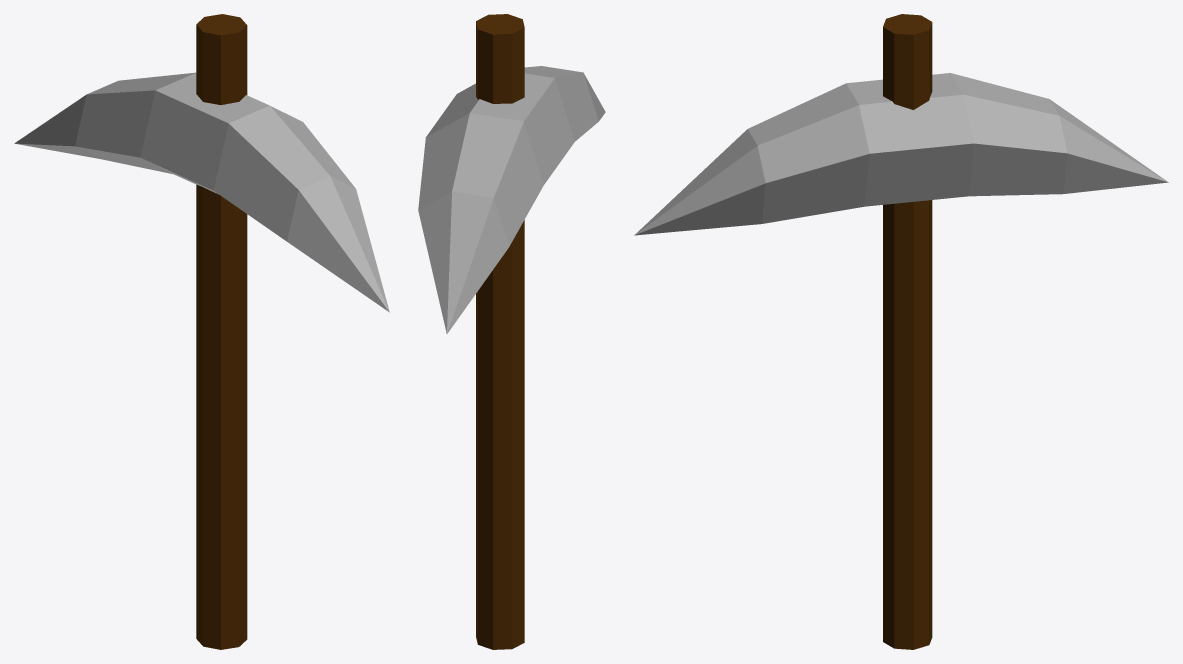
File: viewmodel anim test.glb
The picture shows the model from 3 angles, left to right: view 1: azimuth 30°, elevation 25°; view 2: azimuth 150°, elevation 25°; view 3: azimuth 270°, elevation 25°; orthographic projection.
Parts seen in each view (by area): view 1: Pick, Handle; view 2: Pick, Handle; view 3: Pick, Handle.
Part boxes in pixels (bbox=[...]): Pick: bbox=[14, 72, 389, 312]; Handle: bbox=[196, 14, 247, 649]; Pick: bbox=[418, 66, 605, 333]; Handle: bbox=[476, 14, 524, 649]; Pick: bbox=[634, 73, 1168, 235]; Handle: bbox=[883, 14, 932, 649].
Bounding box in the file's own units: 0.1924 × 0.8 × 0.6307.
